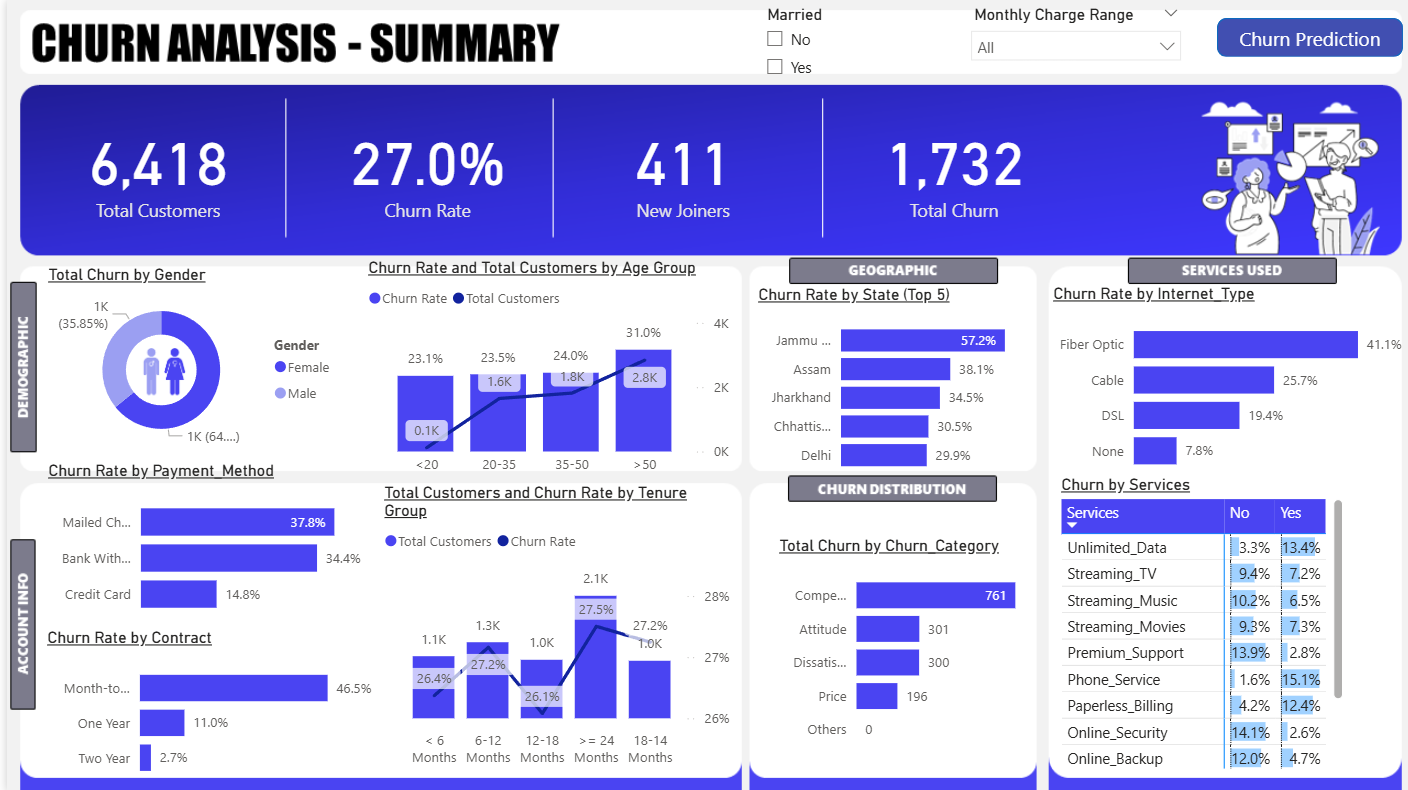

What the dashboard file says about the page in this screenshot:
{"tool":"powerbi","page":{"name":"Summary","canvas":[1280,720],"ordinal":0},"visuals":[{"type":"image","box":[93.3,304.7,99.3,64.7],"z":0},{"type":"card","fields":{"Values":["tbl_measures.Total Customers"]},"box":[21,94,233,118],"z":1000},{"type":"card","fields":{"Values":["tbl_measures.New Joiners"]},"box":[469,94,291,118],"z":2000},{"type":"card","fields":{"Values":["tbl_measures.Churn Rate"]},"box":[246,94,272,118],"z":3000},{"type":"card","fields":{"Values":["tbl_measures.Total Churn"]},"box":[699,94,324,118],"z":4000},{"type":"donutChart","fields":{"Y":["tbl_measures.Total Churn"],"Category":["prod_Churn.Gender"]},"box":[33,242,276,173],"z":5000},{"type":"lineStackedColumnComboChart","fields":{"Category":["mapping_AgeGrp.Age Group"],"Y":["tbl_measures.Churn Rate"],"Y2":["tbl_measures.Total Customers"]},"box":[324,235,338,205],"z":6000},{"type":"clusteredBarChart","fields":{"Category":["prod_Churn.Payment_Method"],"Y":["tbl_measures.Churn Rate"]},"box":[33,420,305,152],"z":7000},{"type":"clusteredBarChart","fields":{"Category":["prod_Churn.Contract"],"Y":["tbl_measures.Churn Rate"]},"box":[32,572,306,148],"z":8000},{"type":"lineStackedColumnComboChart","fields":{"Y":["tbl_measures.Total Customers"],"Category":["Mapping_TenureGrp.Tenure Group"],"Y2":["tbl_measures.Churn Rate"]},"box":[338,440,324,264],"z":9000},{"type":"clusteredBarChart","title":"Churn Rate by State (Top 5)","fields":{"Category":["prod_Churn.State"],"Y":["tbl_measures.Churn Rate"]},"box":[678,260,268,180],"z":10000},{"type":"clusteredBarChart","fields":{"Y":["tbl_measures.Total Churn"],"Category":["prod_Churn.Churn_Category"]},"box":[697,488,249,205],"z":11000},{"type":"clusteredBarChart","fields":{"Category":["prod_Churn.Internet_Type"],"Y":["tbl_measures.Churn Rate"]},"box":[946,259,334,182],"z":12000},{"type":"pivotTable","title":"Churn by Services","fields":{"Rows":["prod_Services.Services"],"Columns":["prod_Services.Status"],"Values":["Sum(prod_Services.Chrun Status)"]},"box":[954,433,266,271],"z":13000},{"type":"slicer","fields":{"Values":["prod_Churn.Monthly Charge Status"]},"box":[866.4,0,210.9,71.8],"z":14000},{"type":"slicer","fields":{"Values":["prod_Churn.Married"]},"box":[678.2,0,188.2,93.6],"z":15000},{"type":"shape","box":[1100,16.4,169.1,35.5],"z":15001}]}

Visuals, with their boxes in screenshot pixels (x1, y1, x2, y2), scaled from the page's 1280x720 canvas onto the 1408x790 screenshot:
image: <region>103, 334, 212, 405</region>
card - tbl_measures.Total Customers: <region>23, 103, 279, 233</region>
card - tbl_measures.New Joiners: <region>516, 103, 836, 233</region>
card - tbl_measures.Churn Rate: <region>271, 103, 570, 233</region>
card - tbl_measures.Total Churn: <region>769, 103, 1125, 233</region>
donutChart - tbl_measures.Total Churn x prod_Churn.Gender: <region>36, 266, 340, 455</region>
lineStackedColumnComboChart - mapping_AgeGrp.Age Group x tbl_measures.Churn Rate: <region>356, 258, 728, 483</region>
clusteredBarChart - prod_Churn.Payment_Method x tbl_measures.Churn Rate: <region>36, 461, 372, 628</region>
clusteredBarChart - prod_Churn.Contract x tbl_measures.Churn Rate: <region>35, 628, 372, 789</region>
lineStackedColumnComboChart - tbl_measures.Total Customers x Mapping_TenureGrp.Tenure Group: <region>372, 483, 728, 772</region>
"Churn Rate by State (Top 5)" clusteredBarChart: <region>746, 285, 1041, 483</region>
clusteredBarChart - tbl_measures.Total Churn x prod_Churn.Churn_Category: <region>767, 535, 1041, 760</region>
clusteredBarChart - prod_Churn.Internet_Type x tbl_measures.Churn Rate: <region>1041, 284, 1407, 484</region>
"Churn by Services" pivotTable: <region>1049, 475, 1342, 772</region>
slicer - prod_Churn.Monthly Charge Status: <region>953, 0, 1185, 79</region>
slicer - prod_Churn.Married: <region>746, 0, 953, 103</region>
shape: <region>1210, 18, 1396, 57</region>
